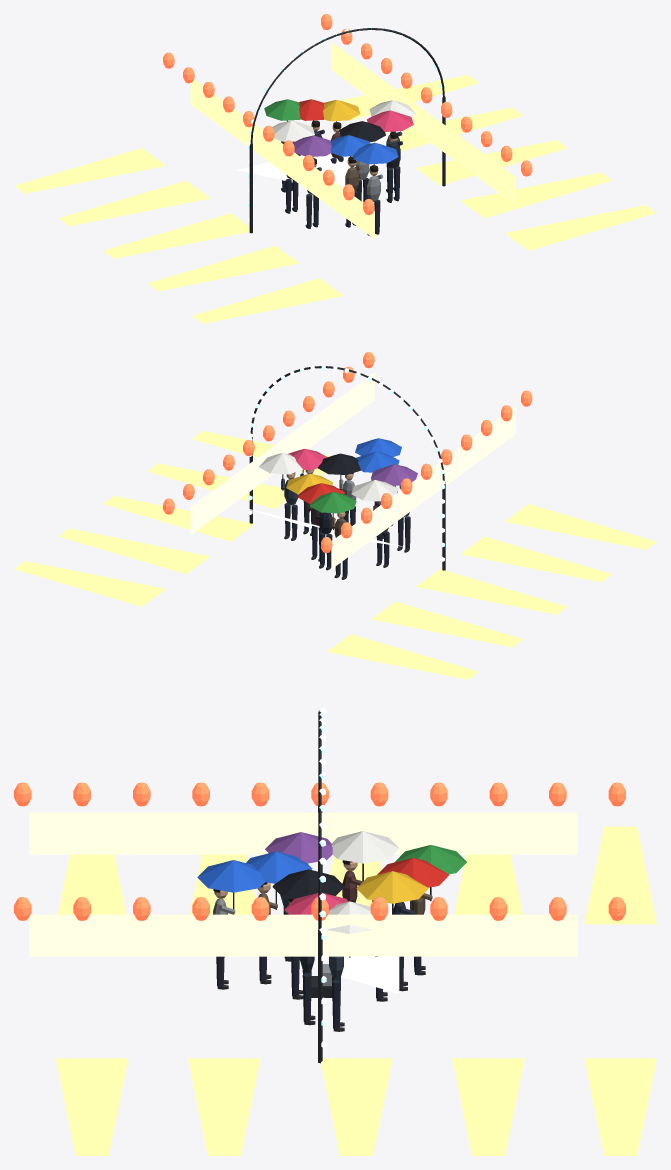
File: city13.glb
The picture shows the model from 3 angles, top to bottom: view 1: azimuth 30°, elevation 25°; view 2: azimuth 150°, elevation 25°; view 3: azimuth 270°, elevation 25°; orthographic projection. The views are drawn at different scales.
Parts seen in each view (by area): view 1: C13_YakataReflect, C13_YakataNight, C13_UmbrellaGroup0, C13_UmbrellaGroup1, C13_LightArch, C13_UpBeam; view 2: C13_YakataReflect, C13_YakataNight, C13_UmbrellaGroup0, C13_UmbrellaGroup1, C13_LightArch; view 3: C13_YakataNight, C13_YakataReflect, C13_UmbrellaGroup0, C13_UmbrellaGroup1, C13_LightArch, C13_UpBeam.
Part boxes in pixels (x1=…): C13_YakataReflect: x1=14, y1=75, x2=656, y2=323; C13_YakataNight: x1=163, y1=14, x2=532, y2=238; C13_UmbrellaGroup0: x1=264, y1=99, x2=398, y2=235; C13_UmbrellaGroup1: x1=323, y1=100, x2=416, y2=227; C13_LightArch: x1=248, y1=26, x2=445, y2=233; C13_UpBeam: x1=237, y1=130, x2=403, y2=187; C13_YakataReflect: x1=14, y1=431, x2=656, y2=679; C13_YakataNight: x1=163, y1=352, x2=532, y2=569; C13_UmbrellaGroup0: x1=297, y1=438, x2=417, y2=579; C13_UmbrellaGroup1: x1=259, y1=448, x2=399, y2=561; C13_LightArch: x1=248, y1=365, x2=445, y2=570; C13_YakataNight: x1=14, y1=782, x2=625, y2=956; C13_YakataReflect: x1=56, y1=826, x2=656, y2=1155; C13_UmbrellaGroup0: x1=197, y1=831, x2=466, y2=991; C13_UmbrellaGroup1: x1=246, y1=851, x2=428, y2=1031; C13_LightArch: x1=318, y1=708, x2=326, y2=1063; C13_UpBeam: x1=341, y1=903, x2=399, y2=993.
Size of the model in its own units: 11.8 by 4.46 by 9.73.
